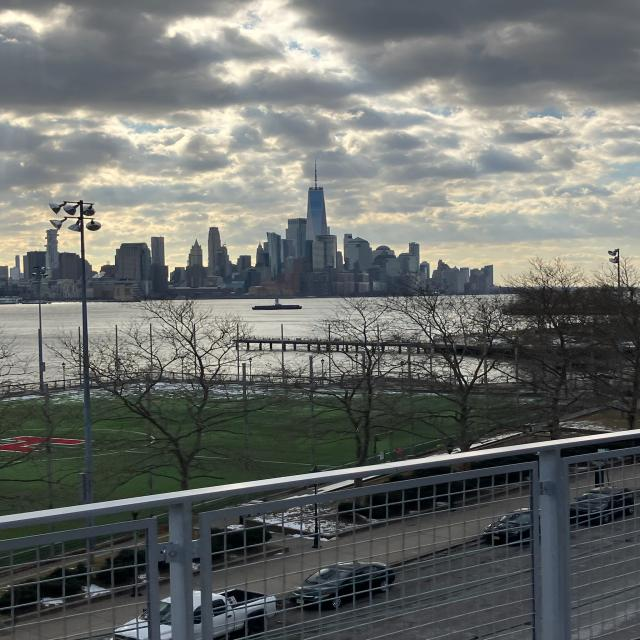WTC: (305, 159, 328, 242)
